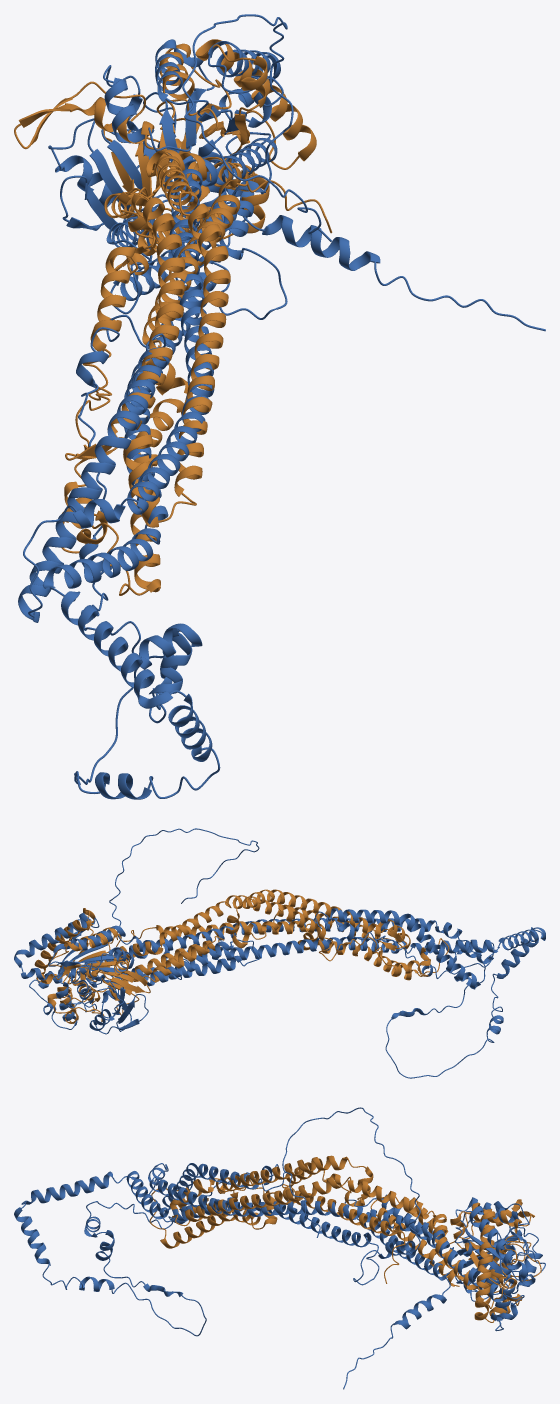
File: AF-Q9RFR9-F1-AF-A0A6Q8PFJ4-F1.glb
The picture shows the model from 3 angles, top to bottom: view 1: azimuth 30°, elevation 25°; view 2: azimuth 150°, elevation 25°; view 3: azimuth 270°, elevation 25°; orthographic projection. The views are drawn at different scales.
Bounding box in the file's own units: 154 × 115 × 188.
